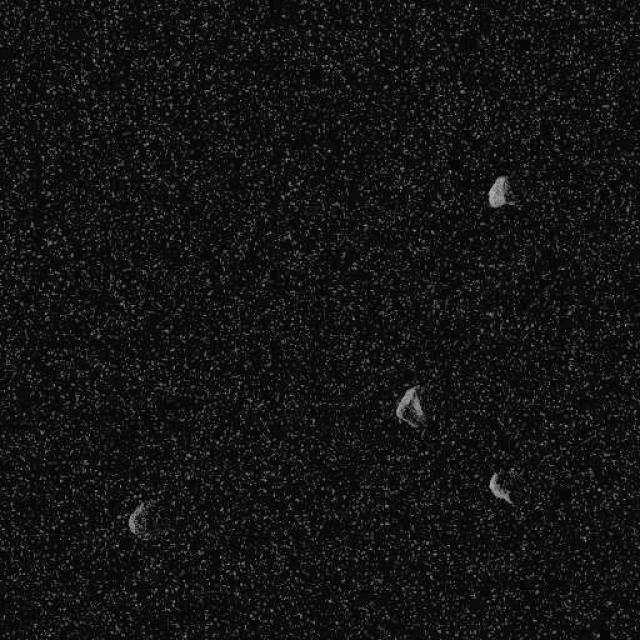D2: (394, 384, 426, 428), (488, 470, 514, 505), (486, 174, 512, 208), (126, 502, 146, 536)
